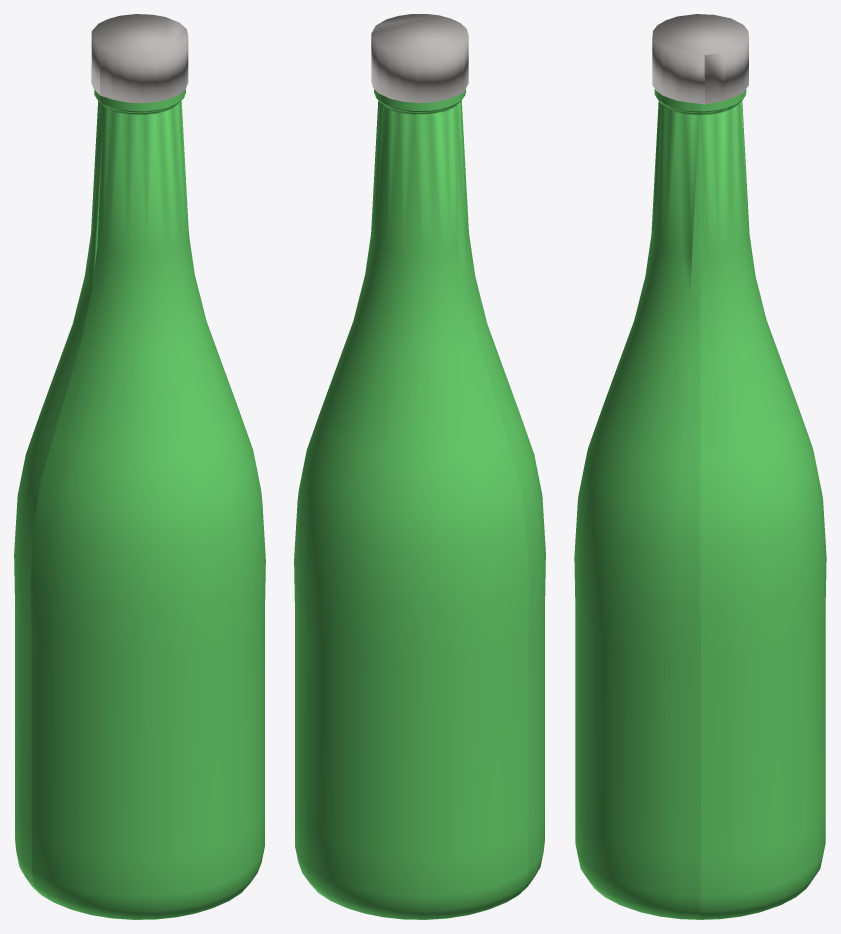
The model's file is soda.fbx.
3 views of the same model, side by side, from view 1: azimuth 30°, elevation 25°; view 2: azimuth 150°, elevation 25°; view 3: azimuth 270°, elevation 25° (orthographic).
Parts seen in each view (by area): view 1: soda; view 2: soda; view 3: soda.
Part boxes in pixels (left/top/right/bottom): soda: left=14, top=14, right=265, bottom=919; soda: left=294, top=14, right=545, bottom=919; soda: left=574, top=14, right=826, bottom=919.
Bounding box in the file's own units: 713 × 2622 × 713.
